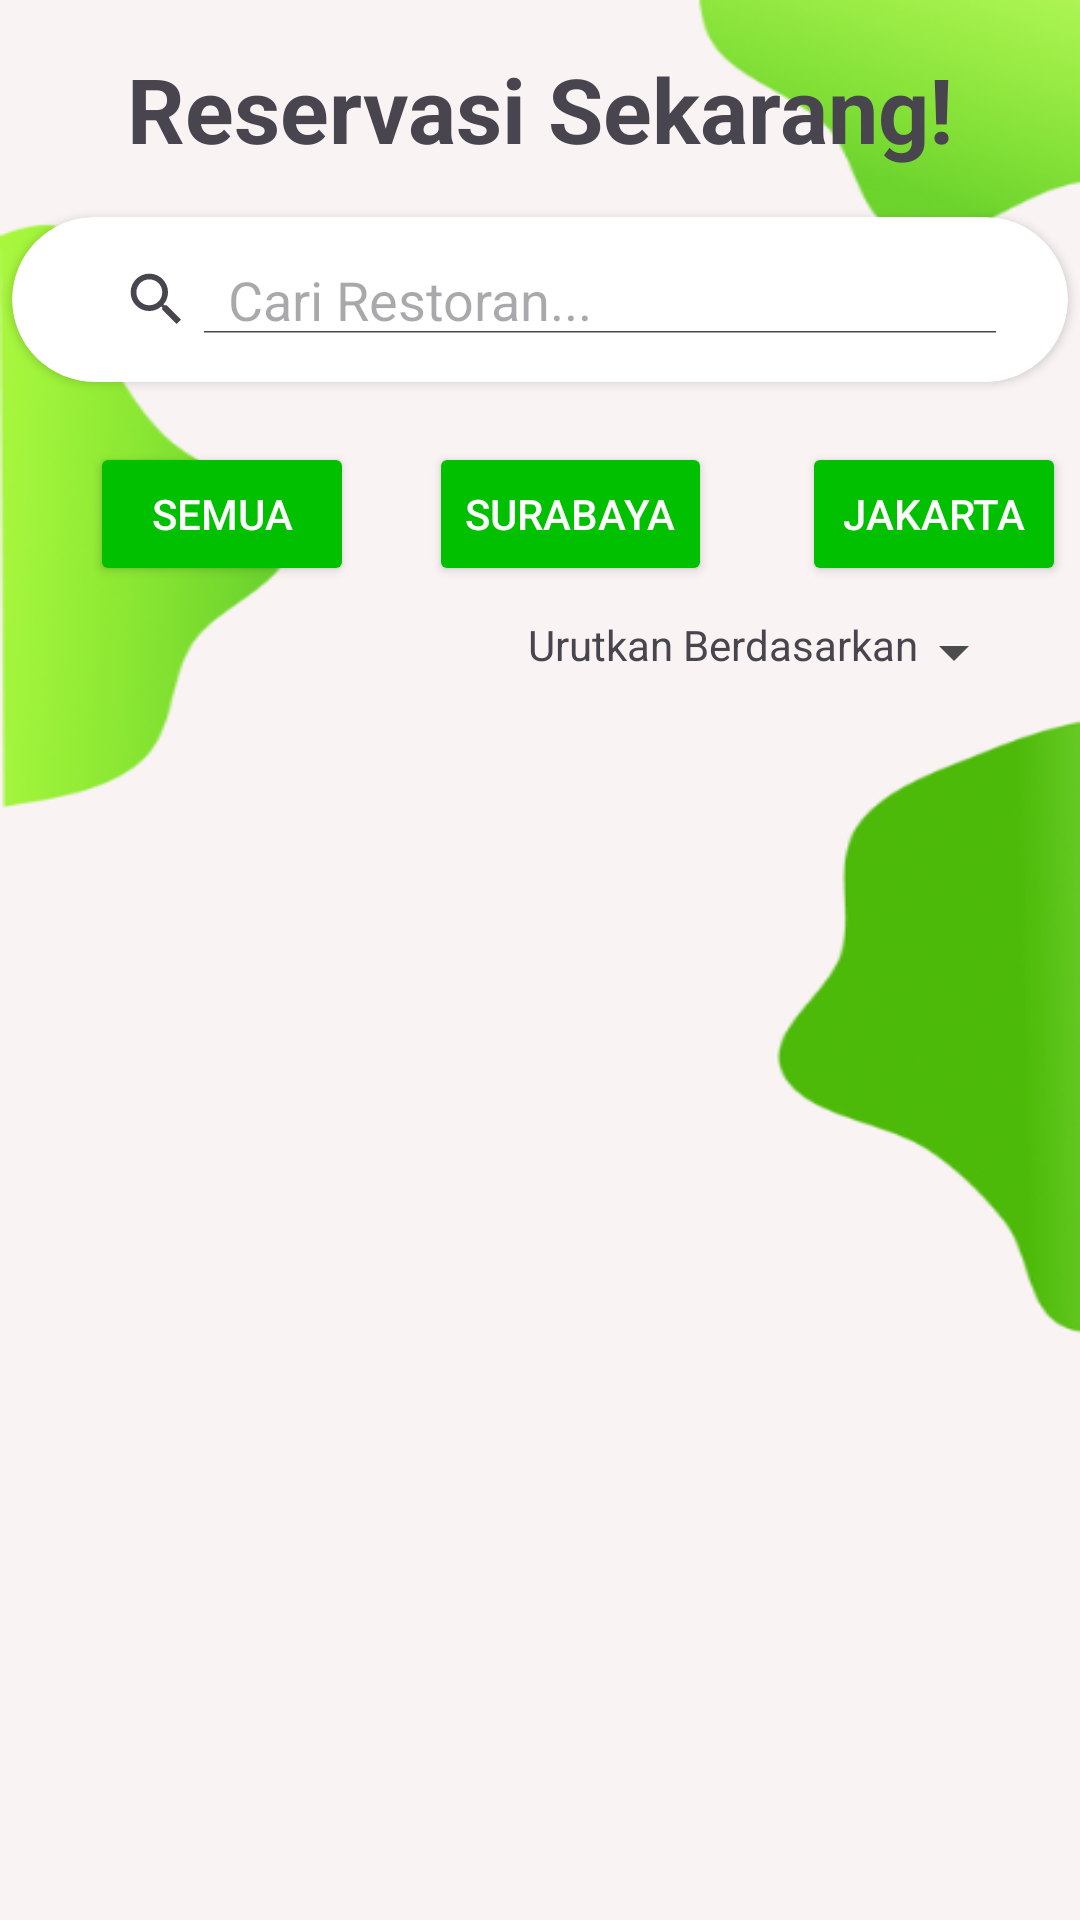

Icon click points for this 1080*1920 phone screenshot, format point (x, y):
arrow drop down: point (954, 653)
